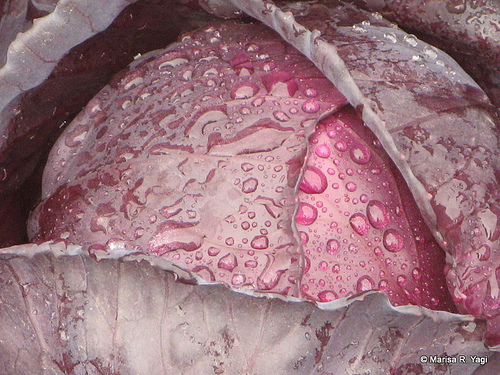cabbage: (0, 1, 499, 374)
